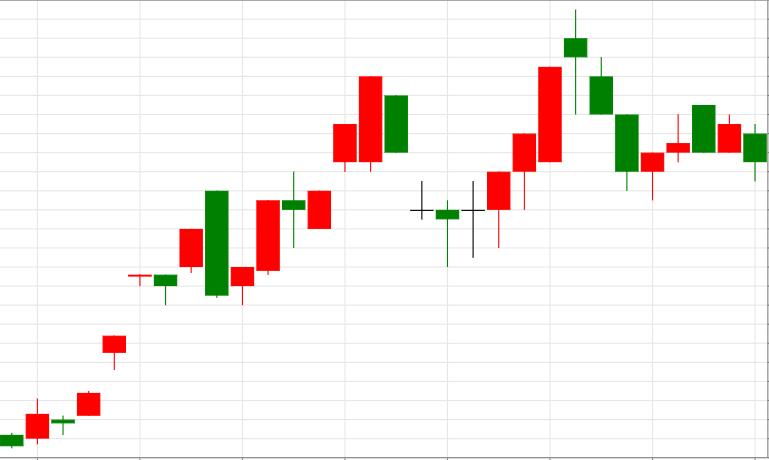bearish_engulfing_fall: (77, 191, 229, 416)
evening_star_fall: (436, 9, 612, 268)
